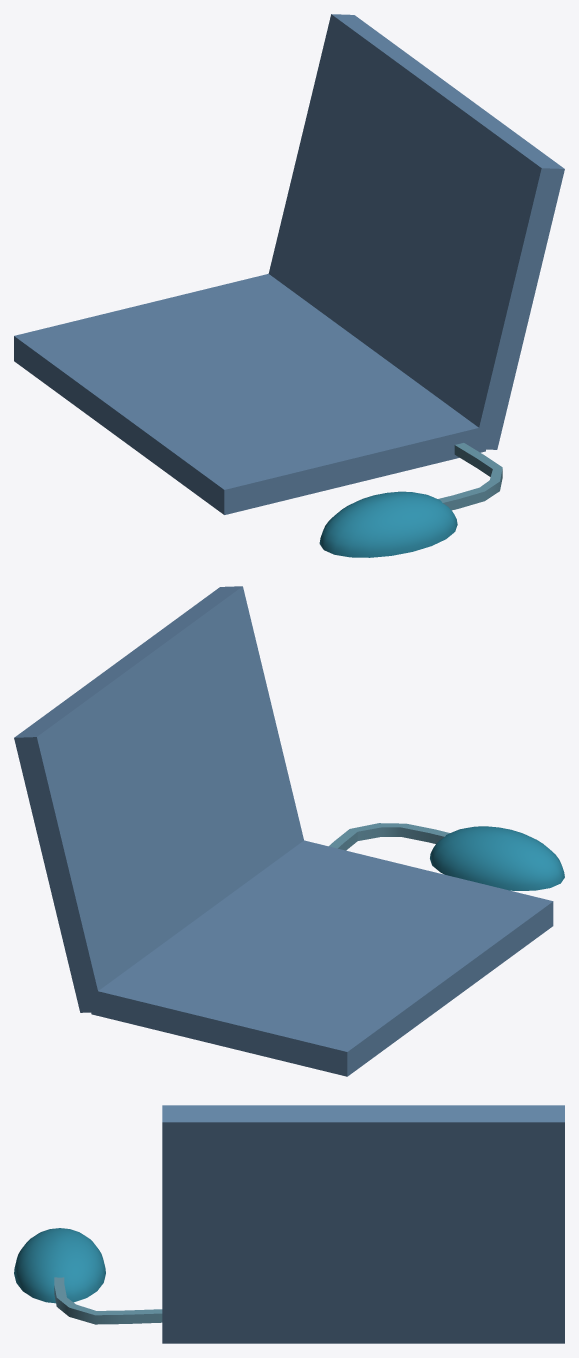
File: Laptop.fbx
The picture shows the model from 3 angles, top to bottom: view 1: azimuth 30°, elevation 25°; view 2: azimuth 150°, elevation 25°; view 3: azimuth 270°, elevation 25°; orthographic projection. The views are drawn at different scales.
Visible parts, largest first — view 1: pSphere2; view 2: pSphere2; view 3: pSphere2.
Part boxes in pixels (bbox=[...]): pSphere2: bbox=[14, 14, 564, 557]; pSphere2: bbox=[14, 586, 564, 1076]; pSphere2: bbox=[14, 1105, 564, 1343].
Size of the model in its own units: 7.83 by 6.08 by 11.47.
